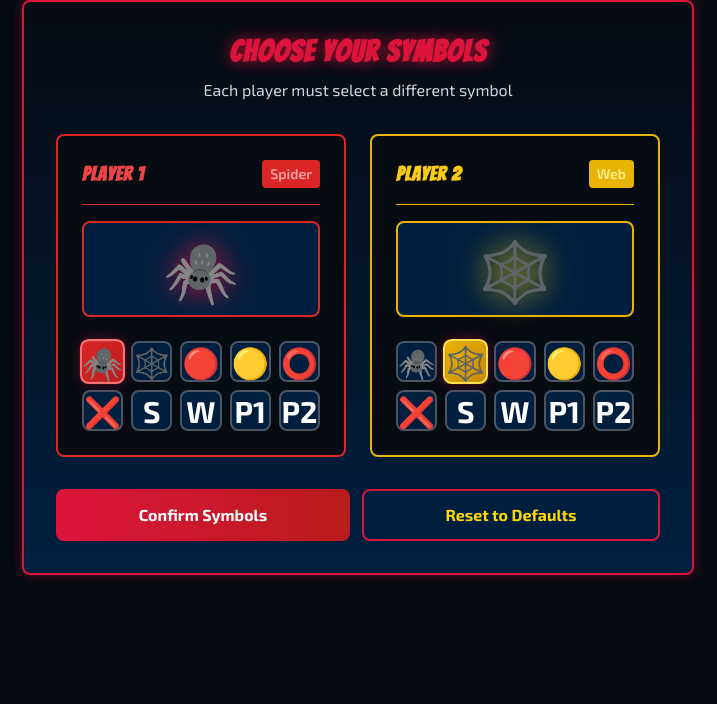
Test case: SymbolSelection Component › Form Validation and Confirmation › should disable confirm button when symbols are the same
The width and height of the screenshot is (717, 704).
Note: Set both players to same symbol
Click the button with class "symbol-button" below "Player 1": point(201, 362) [180,341,222,382]
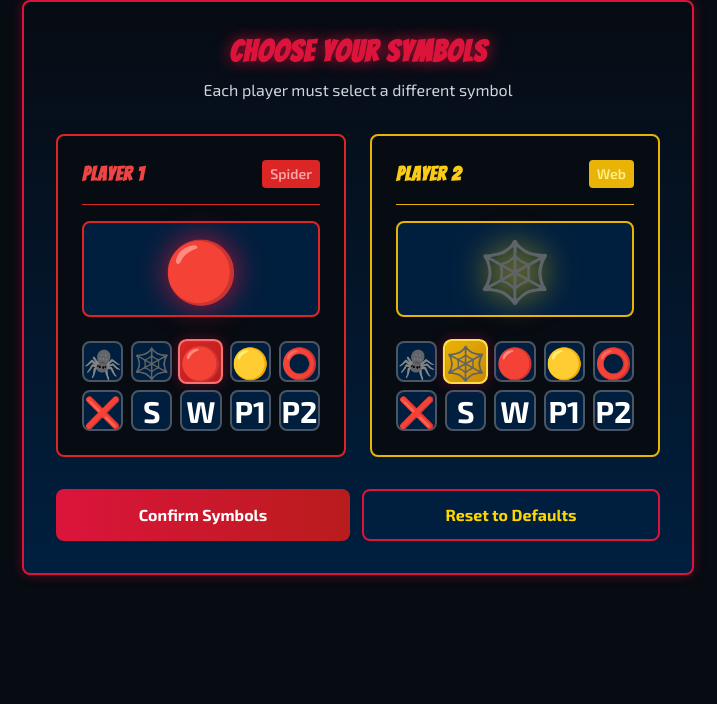
Click the button with class "symbol-button" below "Player 2": point(515, 362) [494,341,536,382]
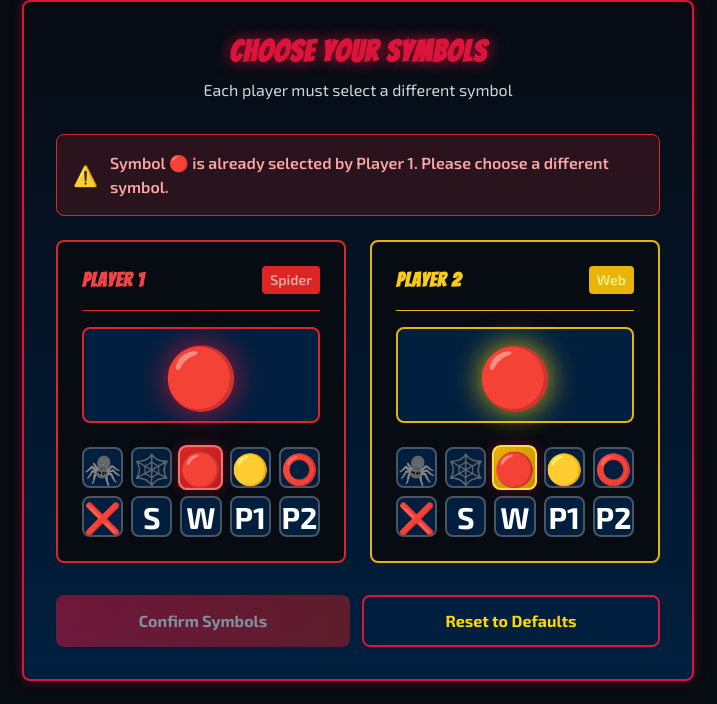
Now the button with class "confirm-button" is disabled, box [56,595,350,647]
